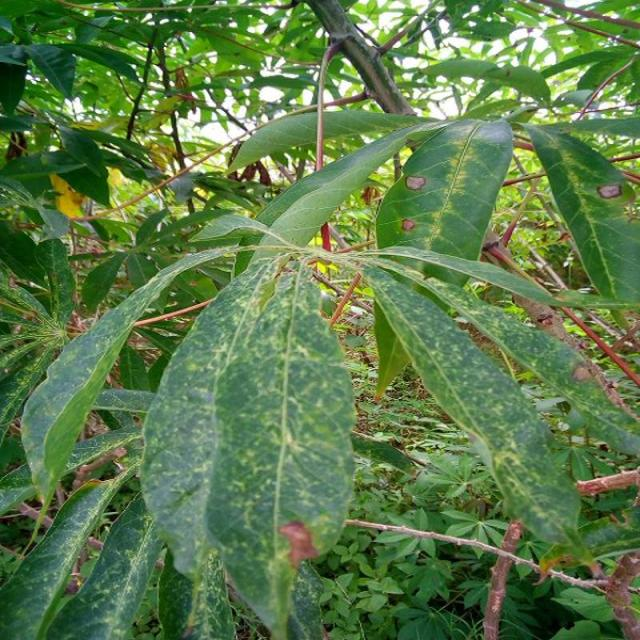cassava leaf: (138, 248, 357, 637), (360, 254, 585, 553), (364, 115, 514, 400), (521, 120, 639, 310)
